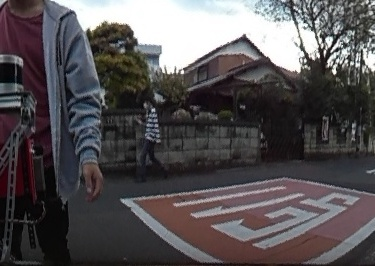person: (135, 97, 168, 182)
